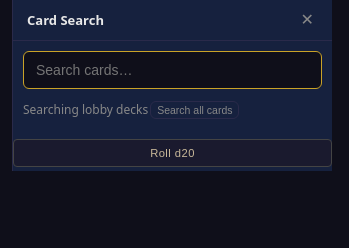
Test: CardSidebar › lobby mode: typing a matching name shows that card in results without fetching
Type "lightning" into the field with placeholder "Search cards…". click: (172,70)
box: x1=23 y1=51 x2=322 y2=89
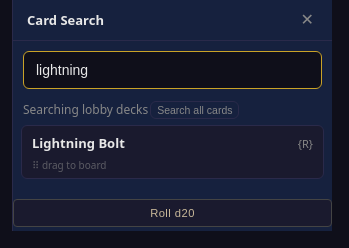
Check: the text "Lightning Bolt" is shown, box x1=32 y1=134 x2=125 y2=152
